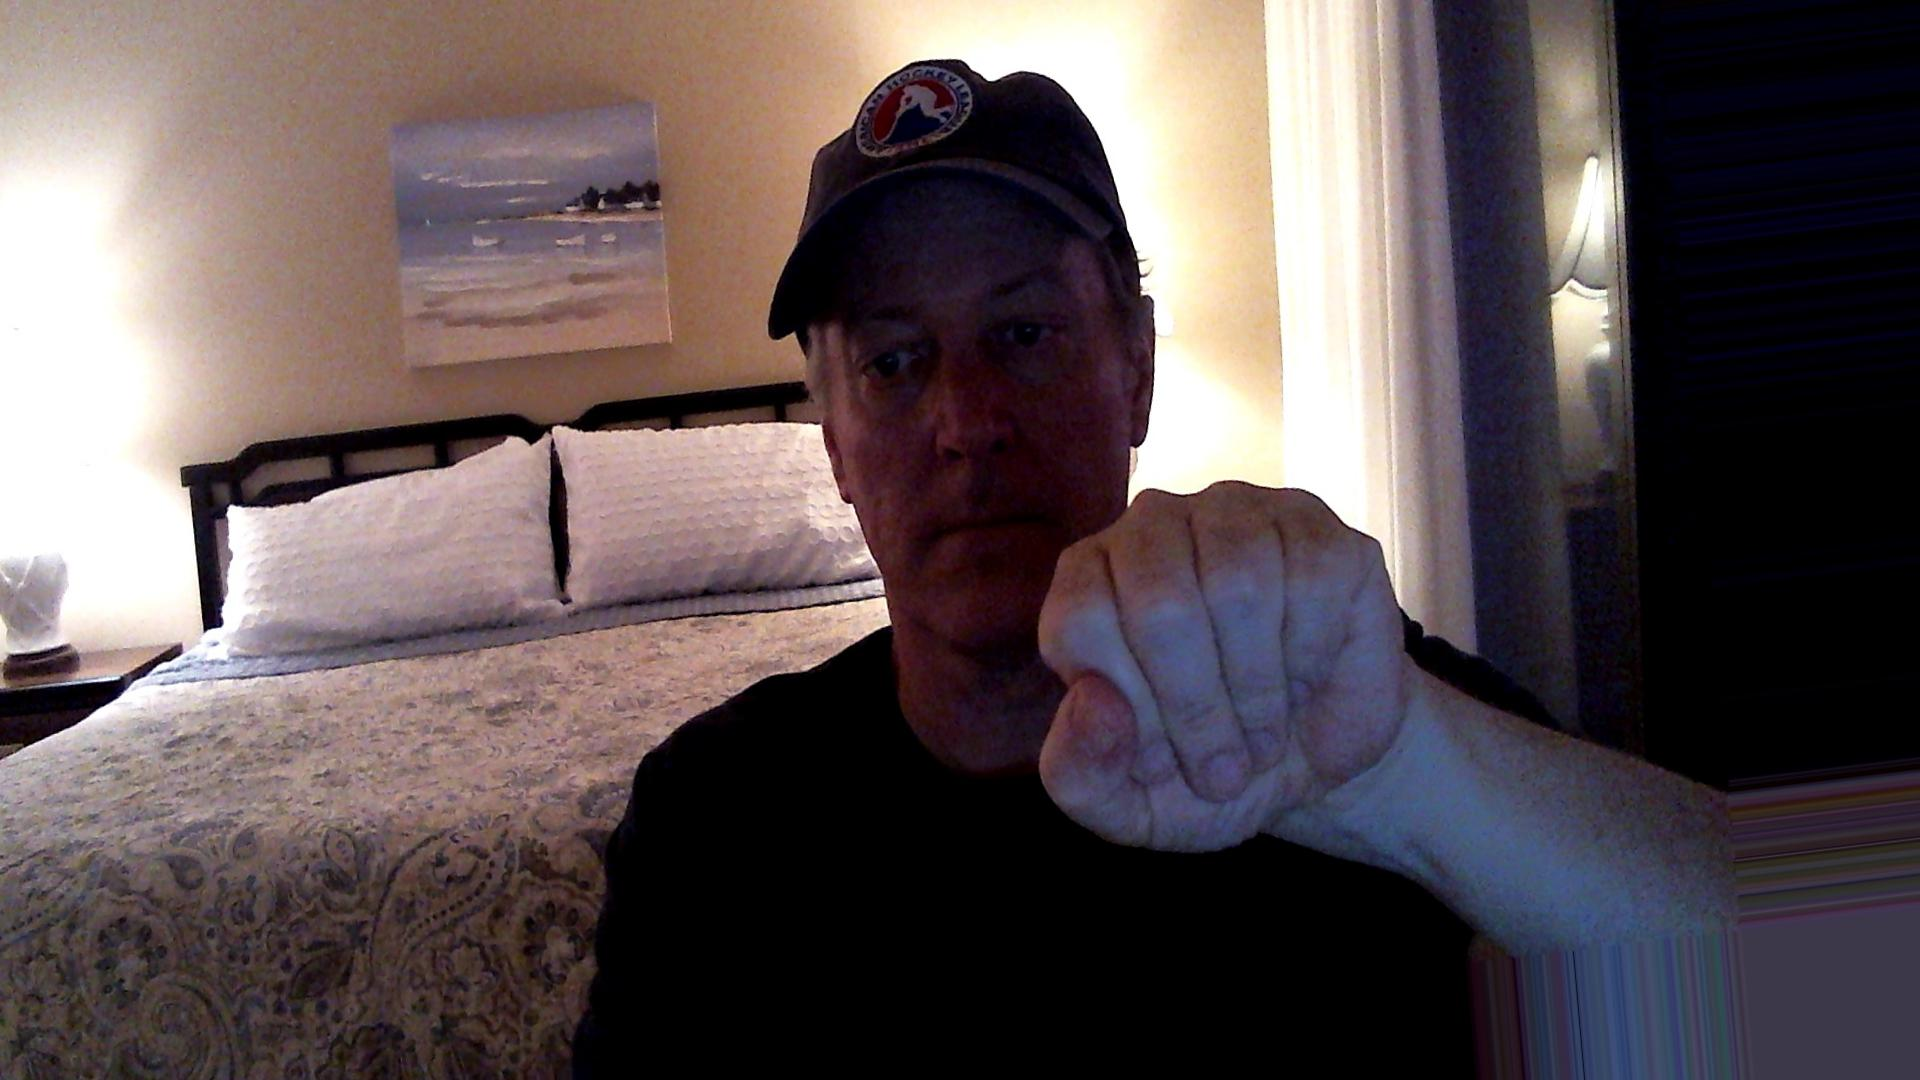Yes: (977, 464, 1469, 864)
